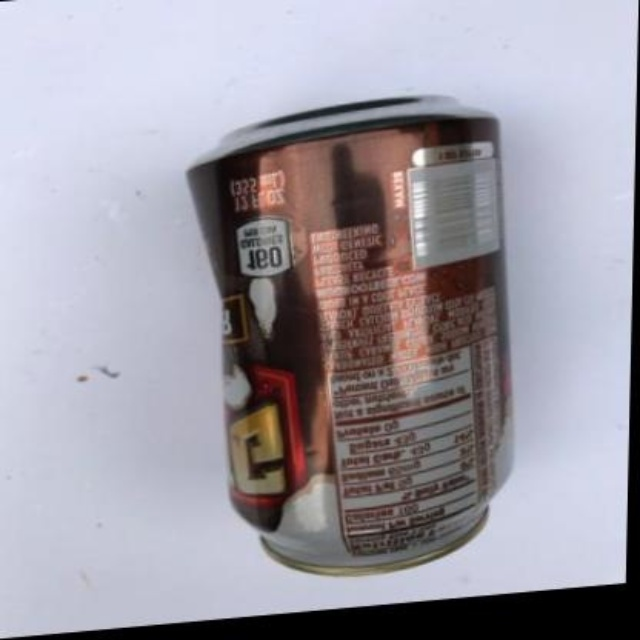trash: (188, 97, 511, 572)
